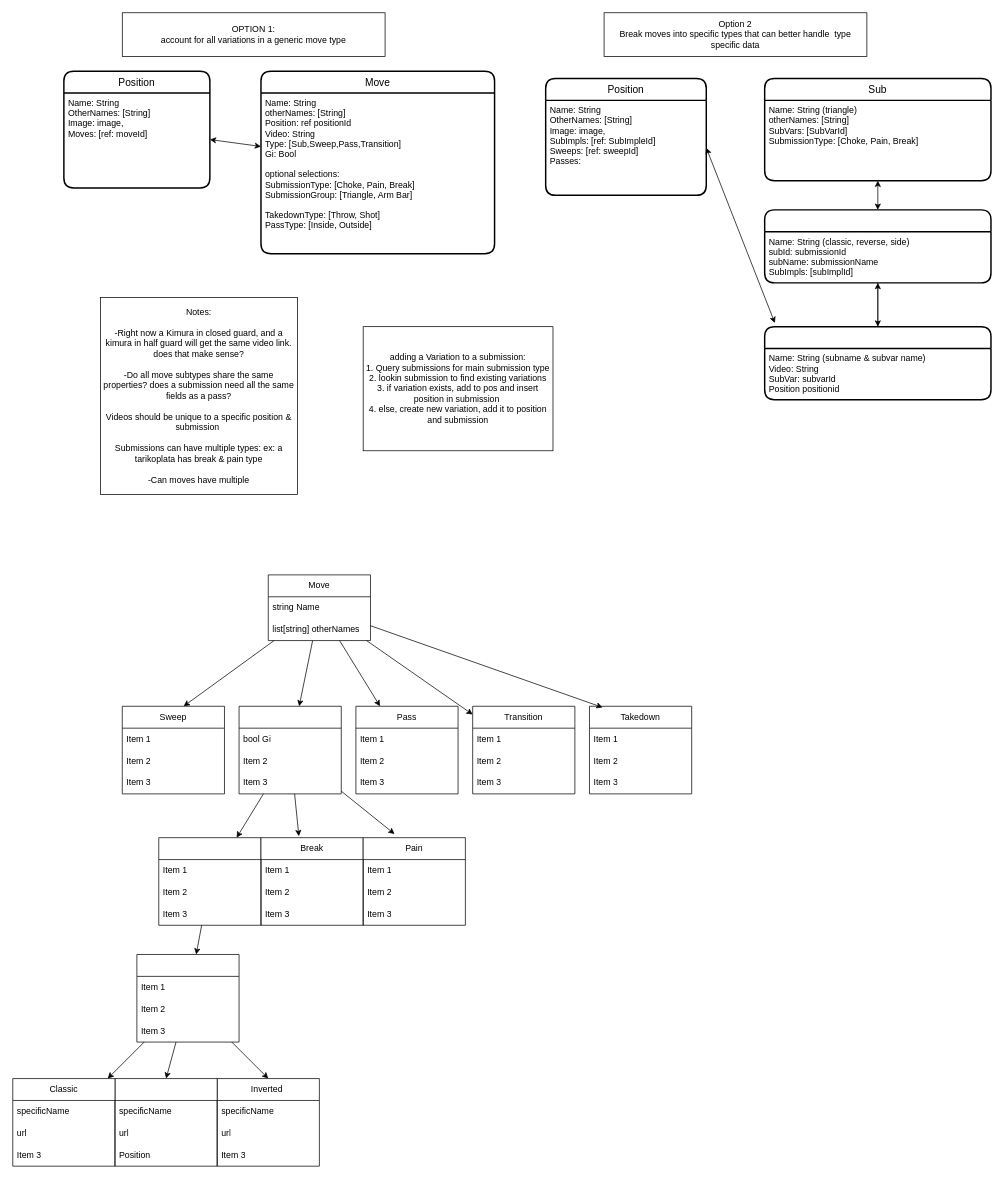
Image size: 1004x1179. Some labels were removed from this diagram. The shapes that lost their labels are listed below. From the top down, each one's box as (x1, y1, x2, y2) in pixels, then its label:
(764, 209, 991, 283): SubVar
(764, 326, 991, 400): SubImpl
(238, 706, 341, 794): Submission
(158, 837, 261, 925): Choke
(136, 954, 239, 1042): Triangle
(114, 1078, 217, 1166): Reverse
